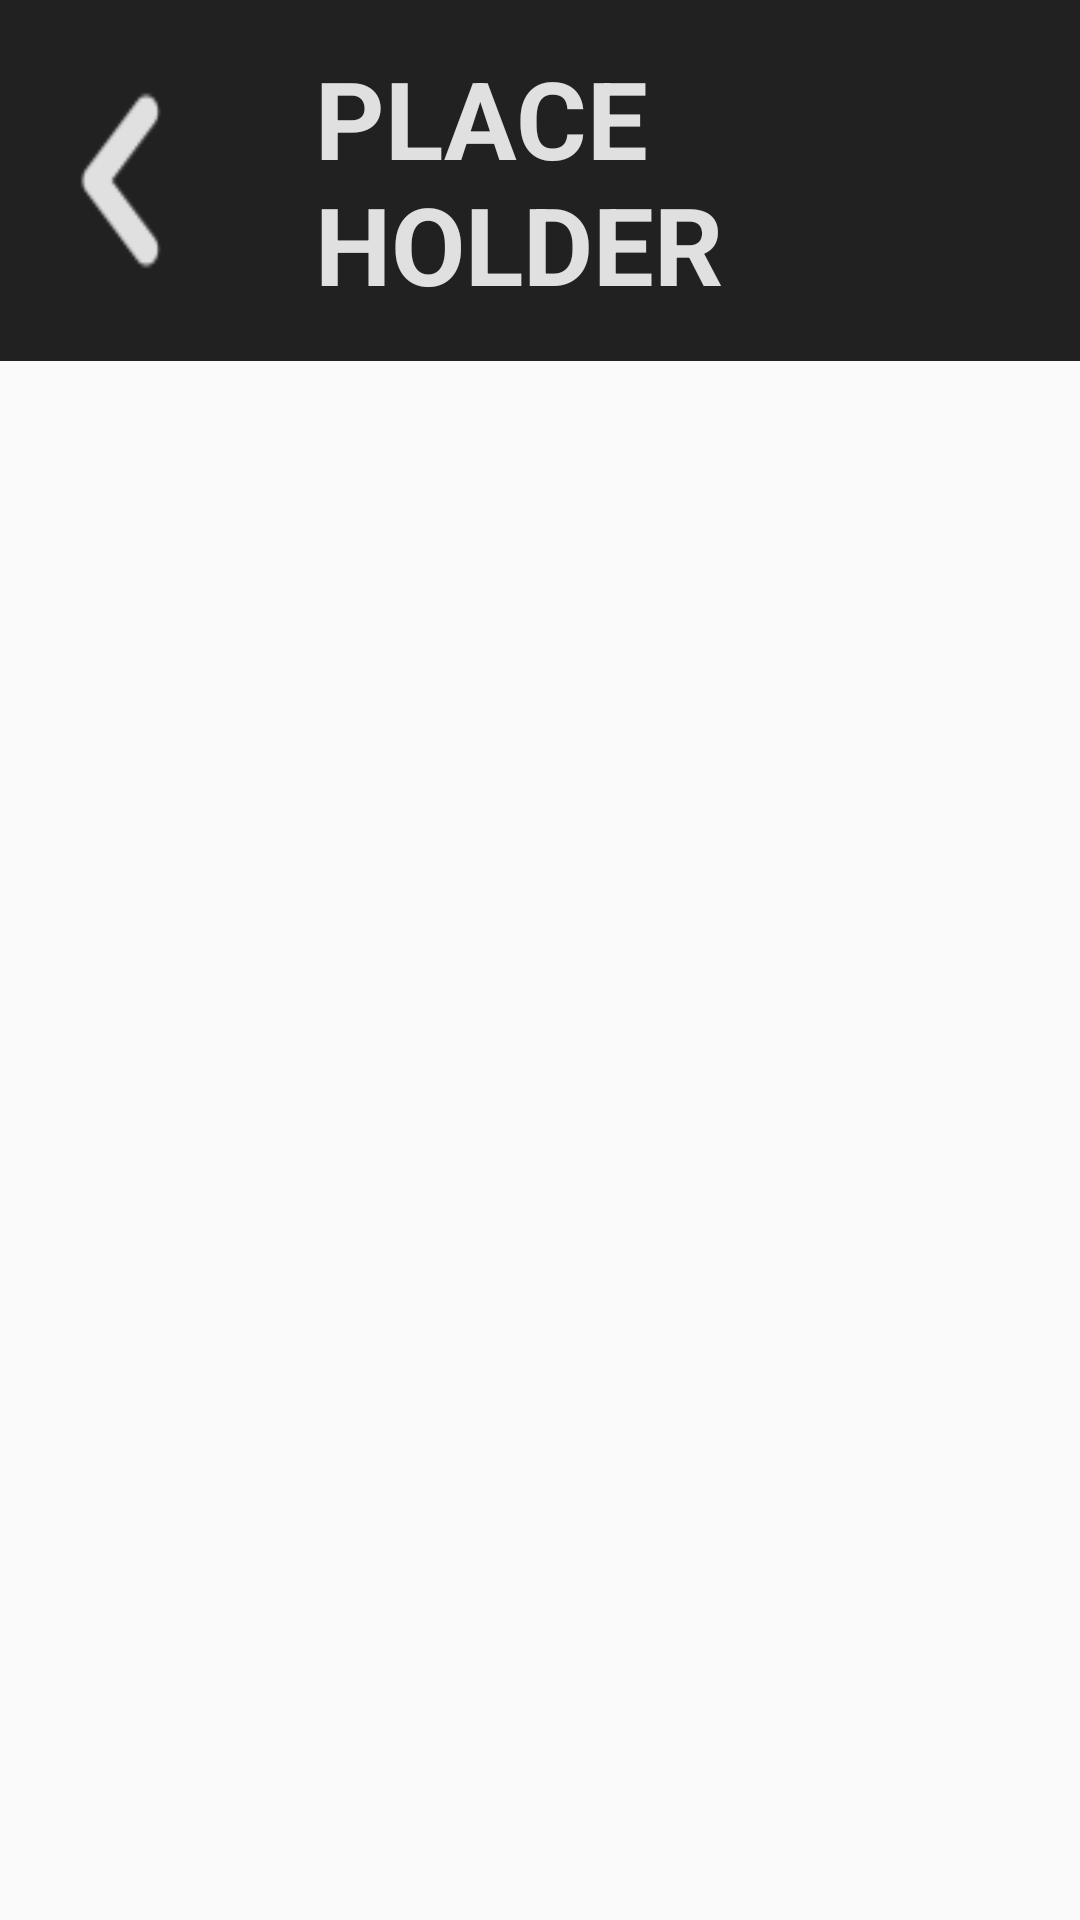

Icon click points for this 1080w x 1920h phone screenshot, format (x,y):
back: (120,180)
